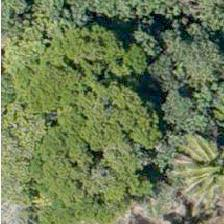Kelapa_Sawit: (174, 134, 223, 223)
